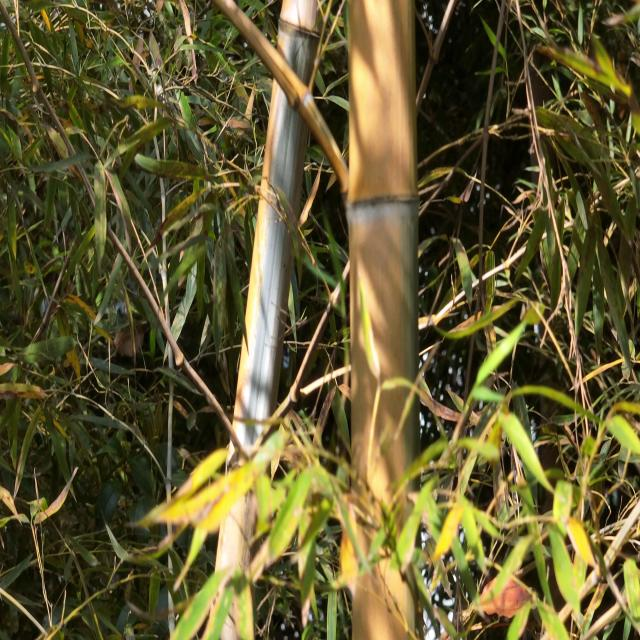Bamboo-shoots: (210, 0, 320, 640)
